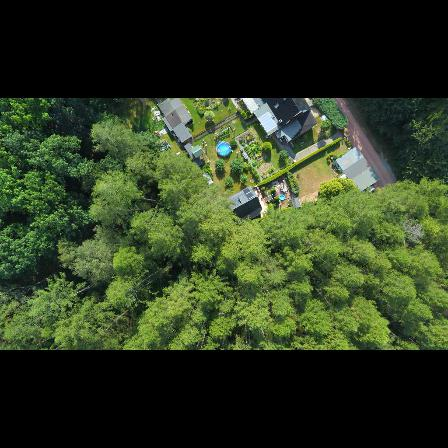Dead: (400, 218, 427, 244)
